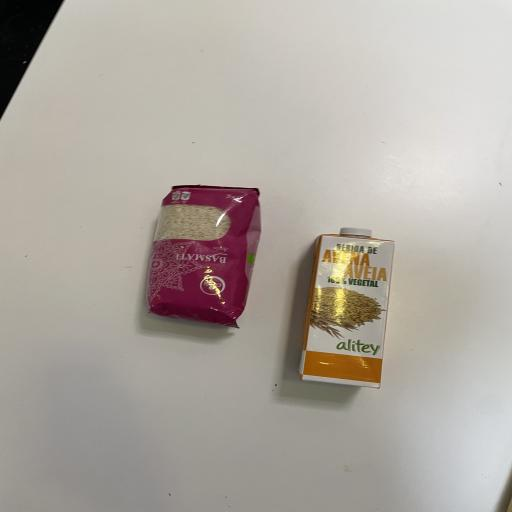oat_milk: (293, 222, 403, 393)
rice: (139, 180, 266, 333)
